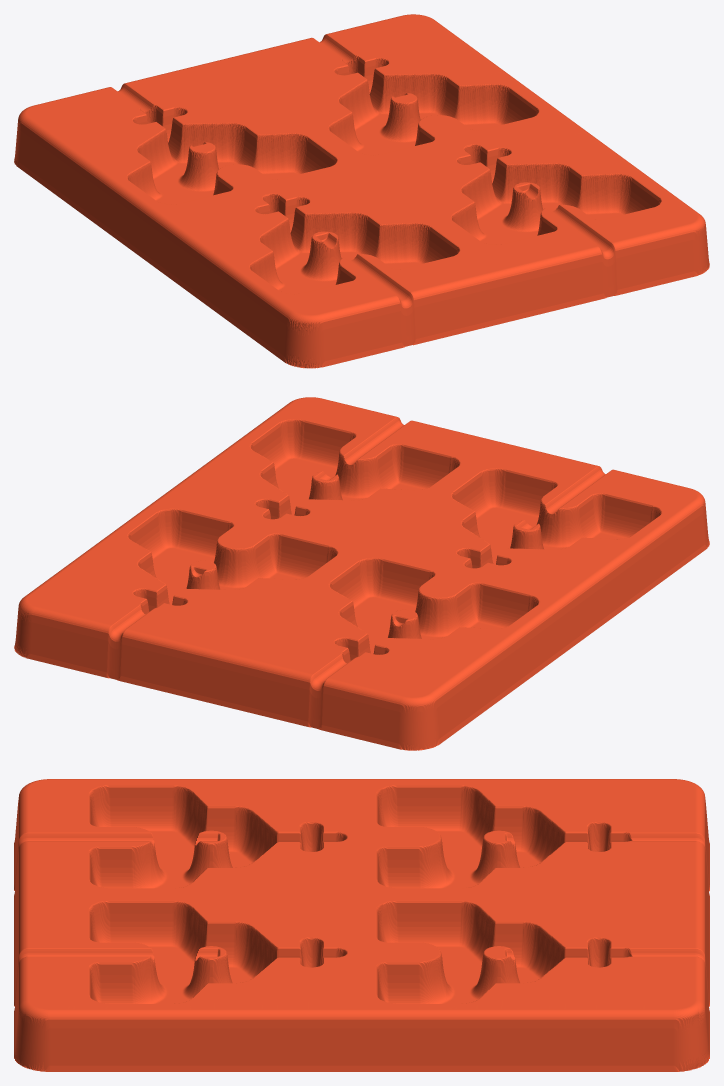
Rendered from mold.glb.
3 renders of one model, top to bottom at view 1: azimuth 30°, elevation 25°; view 2: azimuth 150°, elevation 25°; view 3: azimuth 270°, elevation 25°, orthographic. The views are drawn at different scales.
Visible parts, largest first — view 1: geometry_0; view 2: geometry_0; view 3: geometry_0.
Boxes of the visible parts, left/top/right/bottom form: geometry_0: left=14, top=14, right=709, bottom=368; geometry_0: left=14, top=397, right=709, bottom=750; geometry_0: left=14, top=779, right=709, bottom=1071.
Size of the model in its own units: 0.1426 by 0.0155 by 0.1735.
